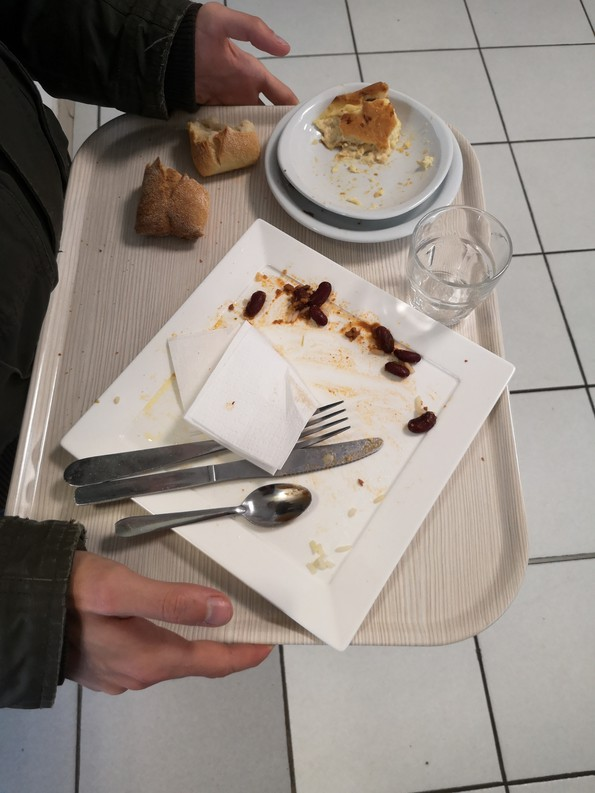cup: (395, 204, 526, 341)
cutlery: (69, 402, 386, 551)
orga: (121, 108, 265, 248), (313, 82, 408, 175)
trash: (164, 333, 326, 474)
